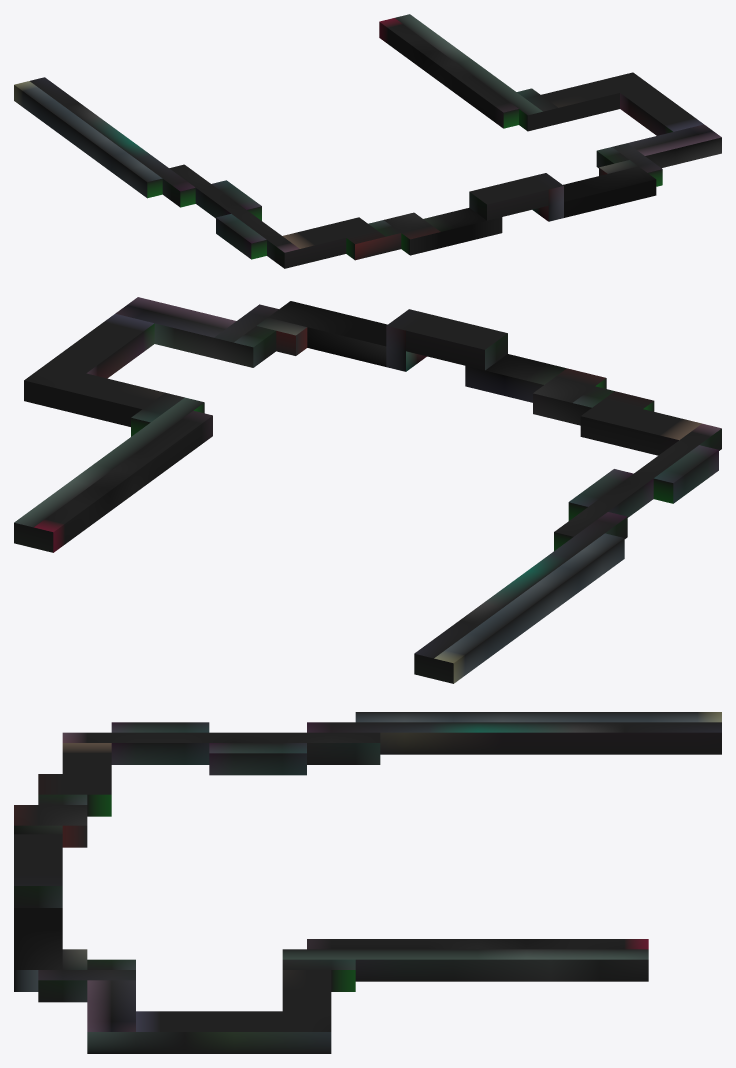
File: Cable_H_00.fbx
The picture shows the model from 3 angles, top to bottom: view 1: azimuth 30°, elevation 25°; view 2: azimuth 150°, elevation 25°; view 3: azimuth 270°, elevation 25°; orthographic projection. The views are drawn at different scales.
Parts seen in each view (by area): view 1: Cable_H_00; view 2: Cable_H_00; view 3: Cable_H_00.
Part boxes in pixels (bbox=[...]): Cable_H_00: bbox=[14, 14, 721, 268]; Cable_H_00: bbox=[14, 297, 721, 683]; Cable_H_00: bbox=[14, 712, 721, 1053].
Size of the model in its own units: 155 by 10 by 145.
